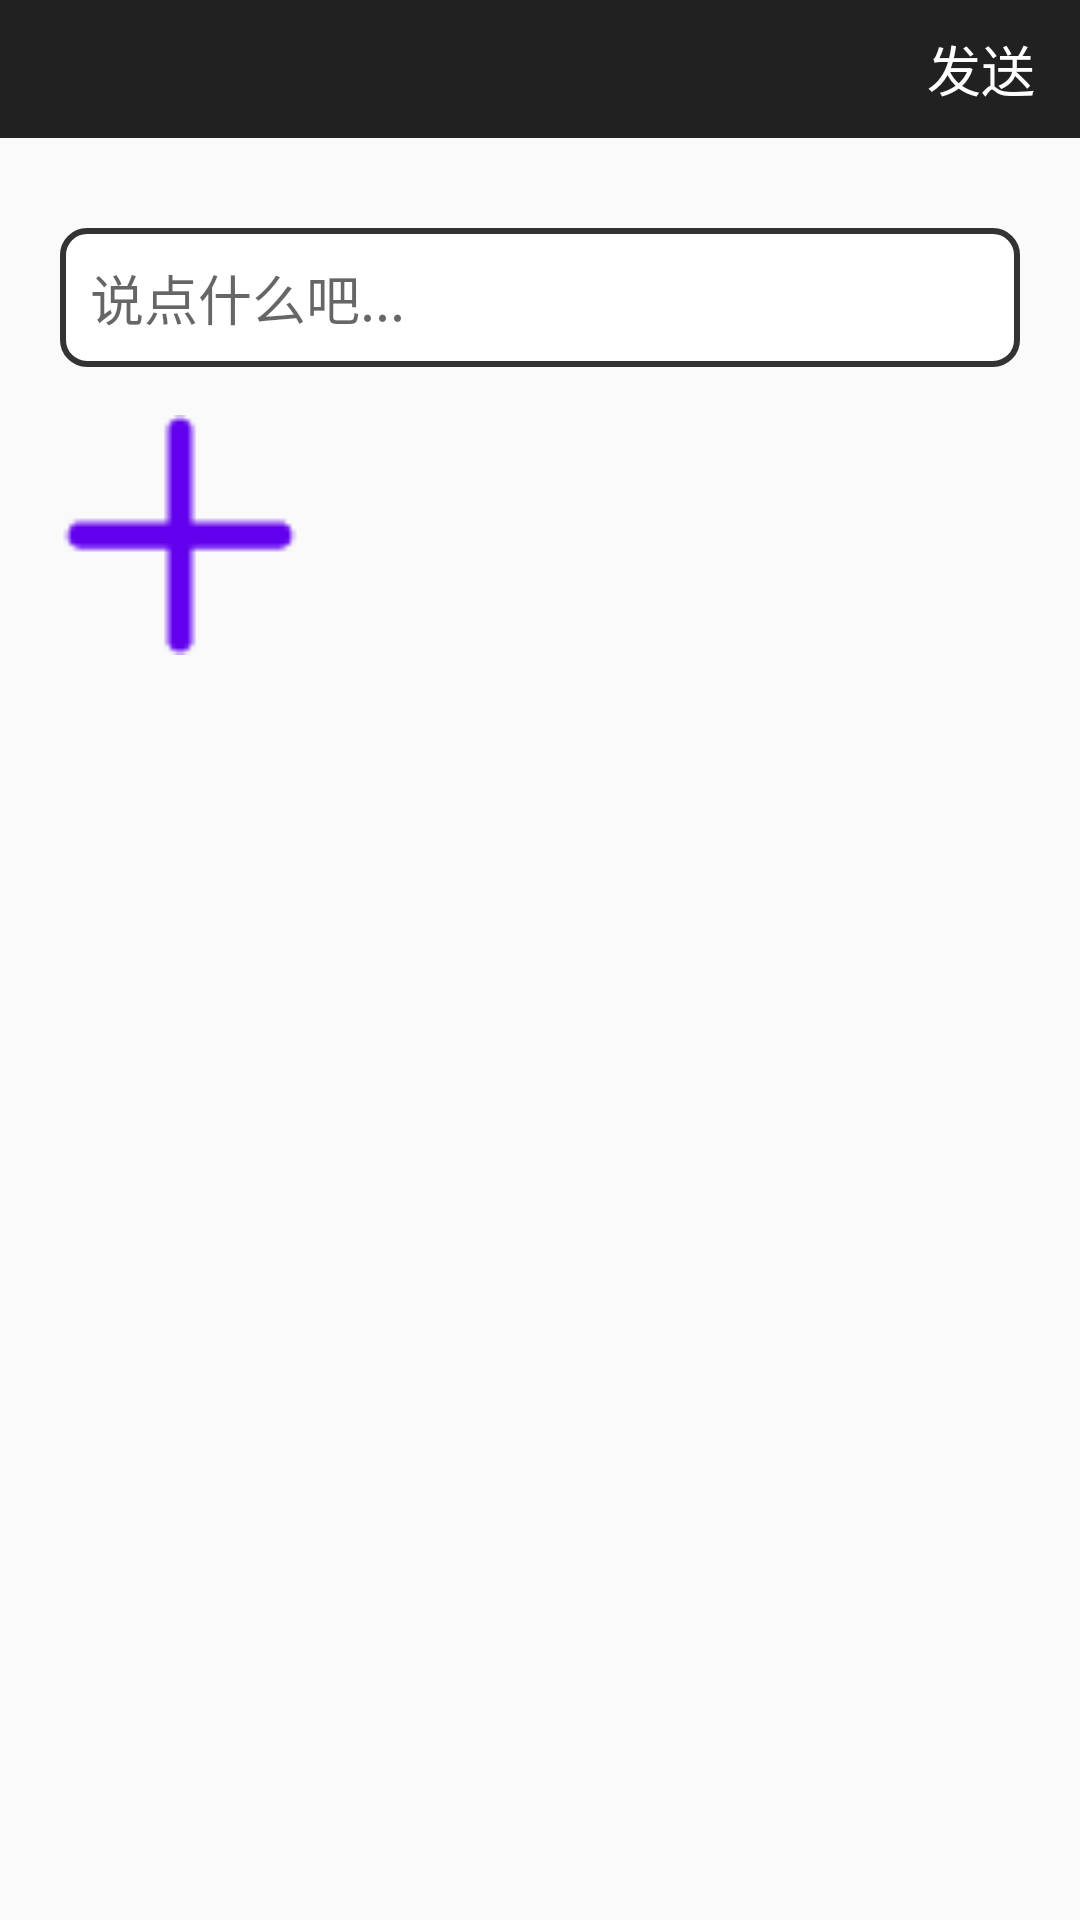

Named icons in this screenshot (1080×1920) and their centers, point (x, y):
add: point (180, 535)
